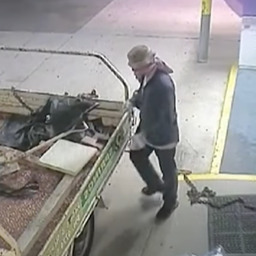person: (124, 43, 182, 222)
